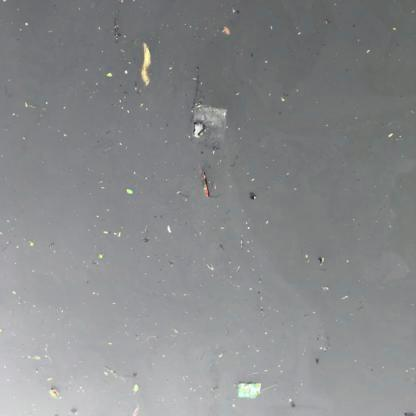Trash: (190, 104, 229, 132), (233, 381, 263, 401), (190, 119, 205, 140)
